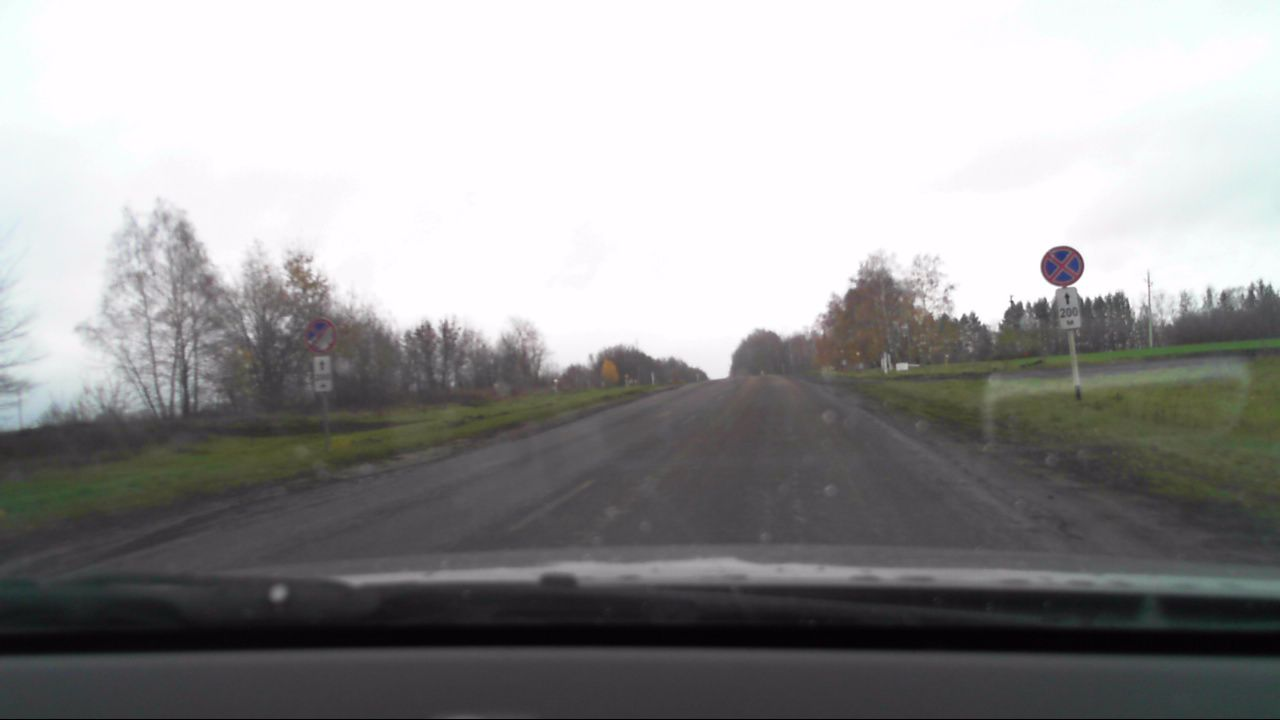No Parking: (303, 317, 336, 351)
